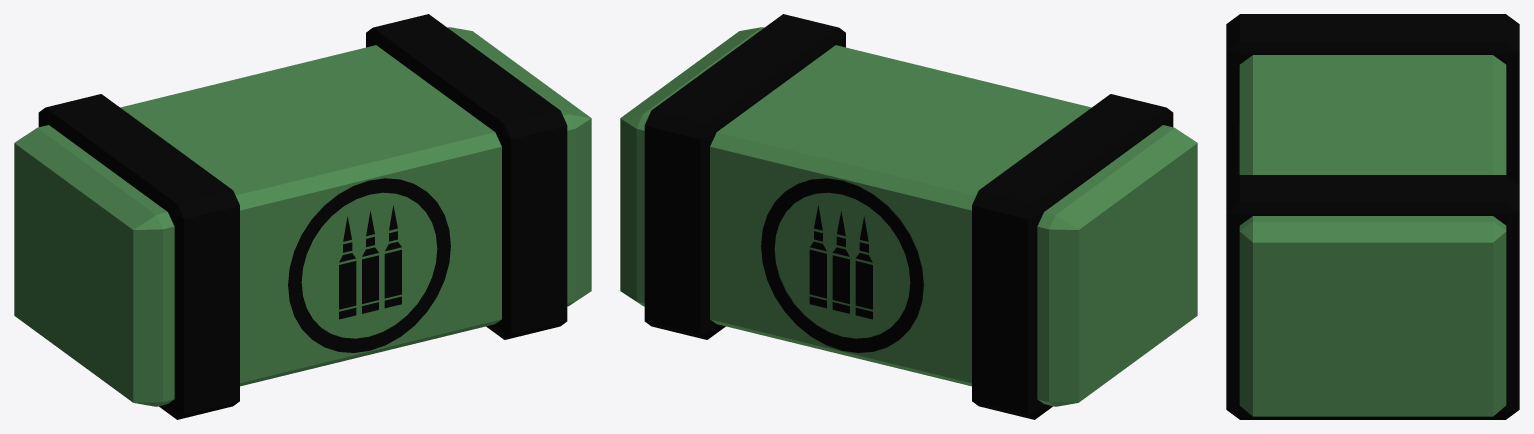
Rendered from ammo.crate.fbx.
3 views of the same model, side by side, from view 1: azimuth 30°, elevation 25°; view 2: azimuth 150°, elevation 25°; view 3: azimuth 270°, elevation 25° (orthographic).
Parts seen in each view (by area): view 1: Cube, Cube.003, Cylinder, Plane; view 2: Cube, Cube.003, Cylinder, Plane.001; view 3: Cube, Cube.003.
Boxes of the visible parts, x1,y1,x2,y2 form: Cube: (14, 27, 591, 406); Cube.003: (38, 14, 567, 419); Cylinder: (288, 178, 450, 352); Plane: (339, 205, 401, 319); Cube: (620, 27, 1197, 406); Cube.003: (644, 14, 1173, 419); Cylinder: (761, 178, 923, 352); Plane.001: (809, 205, 872, 319); Cube: (1239, 55, 1506, 416); Cube.003: (1226, 14, 1519, 419).
Size of the model in its own units: 400 by 180 by 220.
